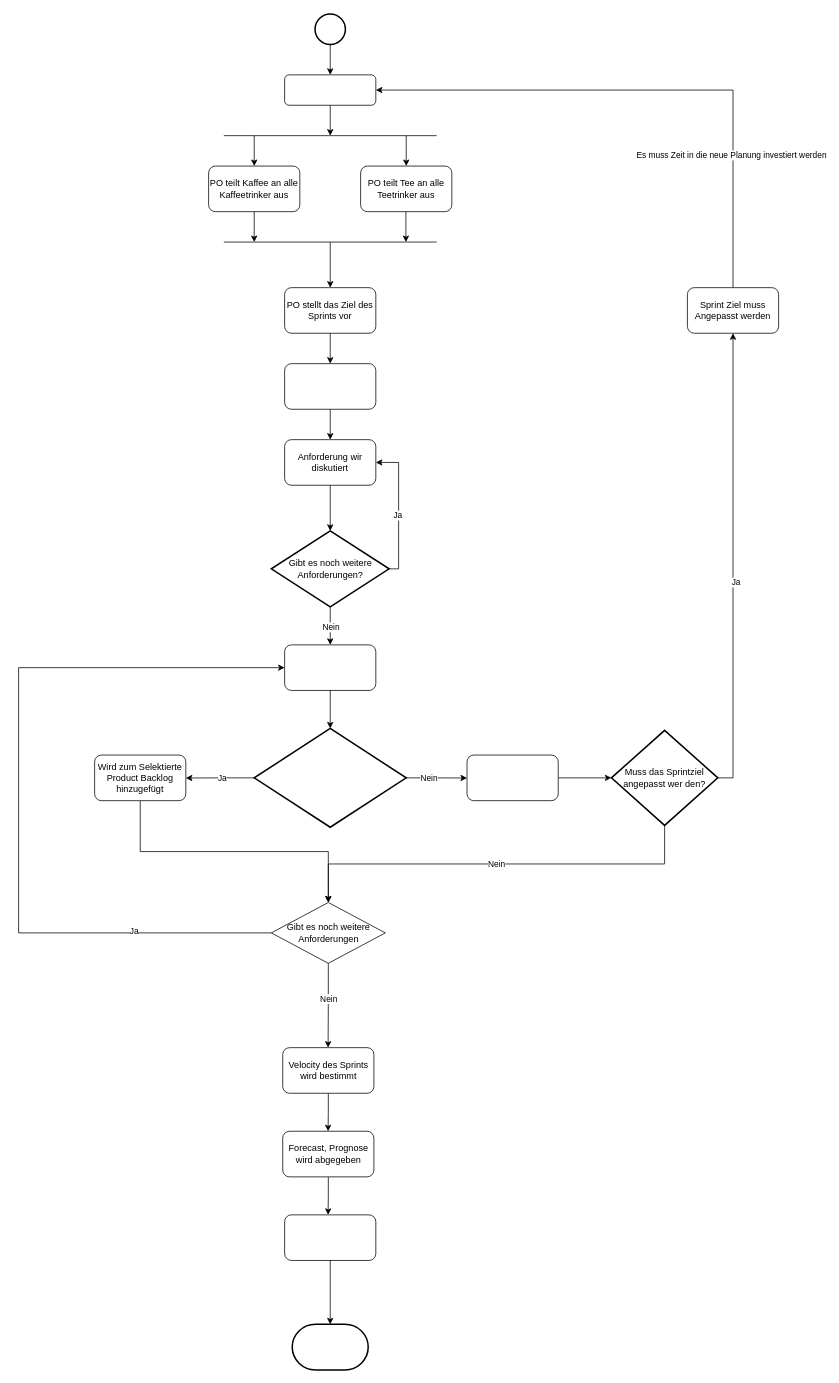
Some shapes in this 839 by 1383 pixel diagram are drawn without their labels. Each missing label, with the centre of its shape:
"Ergebnisse des Meetings werden in Confluence dokumentiert" belongs at point 330,1237.
"Kommt die Anforderung in das Selektierte Product Backlog" belongs at point 330,777.
"PO gibt Überblick über Anforderungen des Sprints" belongs at point 330,386.
"Product Owner started das Meeting" belongs at point 330,89.
"Schätzt Aufwand für Anforderung" belongs at point 330,667.
"Wird mit der neuen Abschätzung ins Product Backlog gelegt" belongs at point 512,777.
